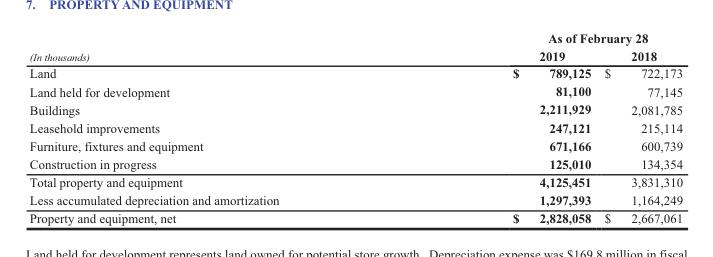table: (28, 29, 682, 226)
table column: (28, 29, 395, 226), (395, 29, 597, 226), (597, 29, 682, 226)
table column header: (28, 29, 682, 64)
table row: (28, 117, 682, 136), (28, 46, 682, 64), (28, 81, 682, 99), (28, 99, 682, 117), (28, 136, 682, 154), (28, 154, 682, 172), (28, 172, 682, 190), (28, 190, 682, 208), (28, 208, 682, 226), (28, 29, 682, 46), (28, 64, 682, 81)
table spanning cell: (28, 29, 395, 64), (395, 29, 682, 46)
